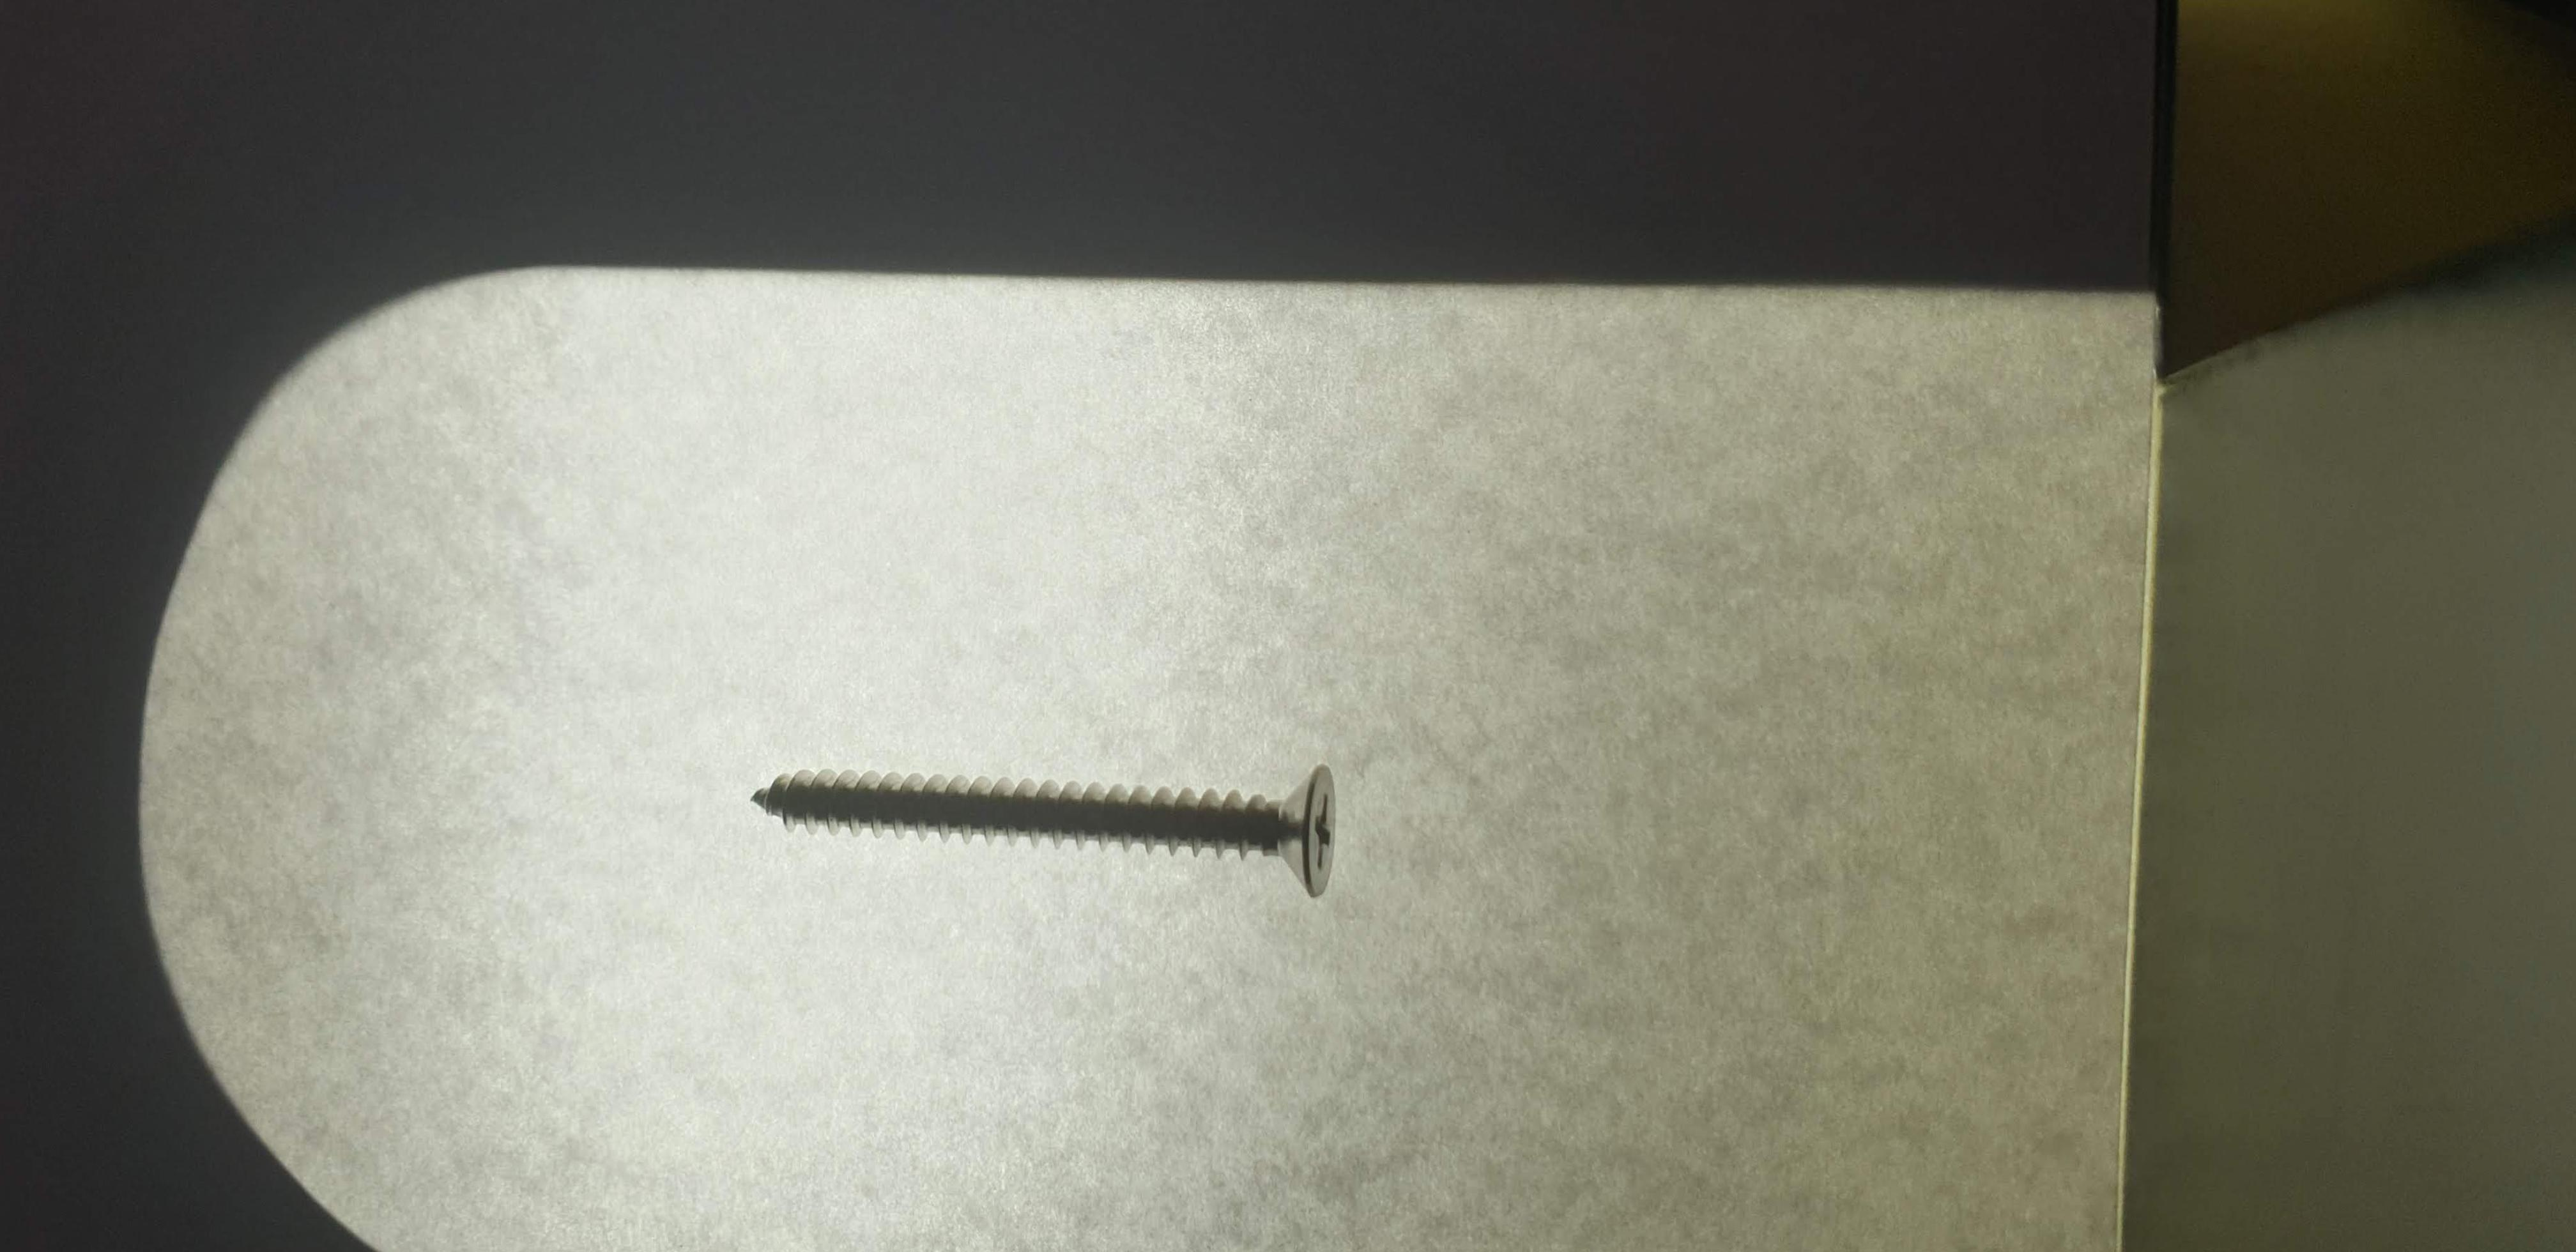S001: (701, 716, 1391, 945)
